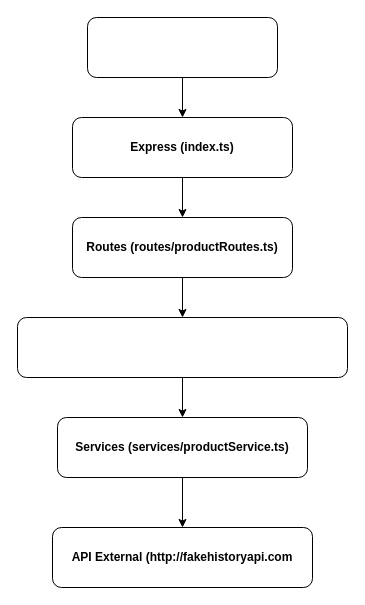
Some shapes in this 365 by 605 pixel diagram are drawn without their labels. Each missing label, with the box of its shape:
Client HTTP: (86, 16, 278, 78)
Controller (controllers/productController.ts): (16, 316, 348, 378)
